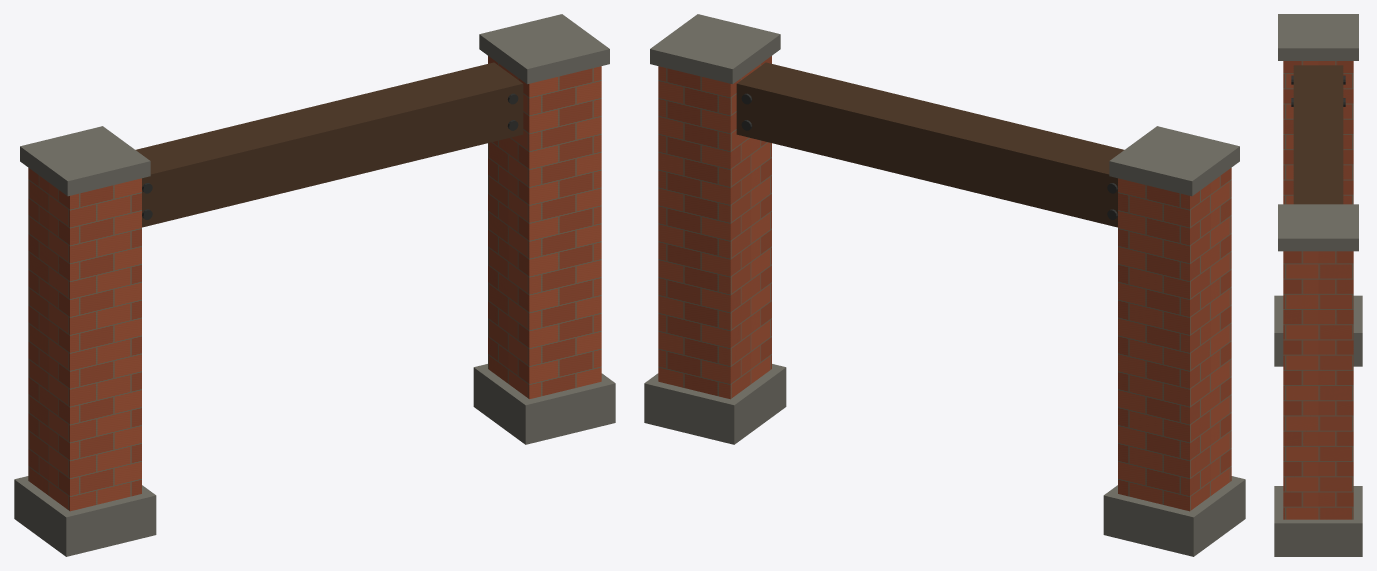
Rendered from everyday_gateway.glb.
The picture shows the model from 3 angles, left to right: view 1: azimuth 30°, elevation 25°; view 2: azimuth 150°, elevation 25°; view 3: azimuth 270°, elevation 25°; orthographic projection. The views are drawn at different scales.
Visible parts, largest first — view 1: Pier_Left, Pier_Right, Timber_Lintel, Stone_Footing_Right, Stone_Footing_Left, Stone_Cap_Left, Stone_Cap_Right; view 2: Pier_Left, Pier_Right, Timber_Lintel, Stone_Footing_Right, Stone_Footing_Left, Stone_Cap_Left, Stone_Cap_Right; view 3: Pier_Right, Timber_Lintel, Stone_Footing_Right, Stone_Cap_Right, Stone_Cap_Left, Pier_Left, Stone_Footing_Left.
Boxes of the visible parts, x1,y1,x2,y2 form: Pier_Left: [28, 168, 141, 511]; Pier_Right: [488, 56, 601, 399]; Timber_Lintel: [136, 62, 523, 227]; Stone_Footing_Right: [473, 364, 615, 444]; Stone_Footing_Left: [14, 476, 156, 556]; Stone_Cap_Left: [20, 126, 150, 196]; Stone_Cap_Right: [479, 14, 609, 84]; Pier_Left: [1118, 168, 1231, 511]; Pier_Right: [658, 56, 771, 399]; Timber_Lintel: [736, 62, 1123, 227]; Stone_Footing_Right: [644, 364, 786, 444]; Stone_Footing_Left: [1103, 476, 1245, 556]; Stone_Cap_Left: [1109, 126, 1239, 196]; Stone_Cap_Right: [650, 14, 780, 84]; Pier_Right: [1283, 251, 1353, 519]; Timber_Lintel: [1293, 65, 1343, 204]; Stone_Footing_Right: [1274, 486, 1362, 556]; Stone_Cap_Right: [1278, 204, 1358, 251]; Stone_Cap_Left: [1278, 14, 1358, 60]; Pier_Left: [1283, 61, 1353, 204]; Stone_Footing_Left: [1274, 295, 1362, 366].
Bounding box in the file's own units: 6.1 × 3.96 × 1.
Materials: 4 (1 with a texture image).
